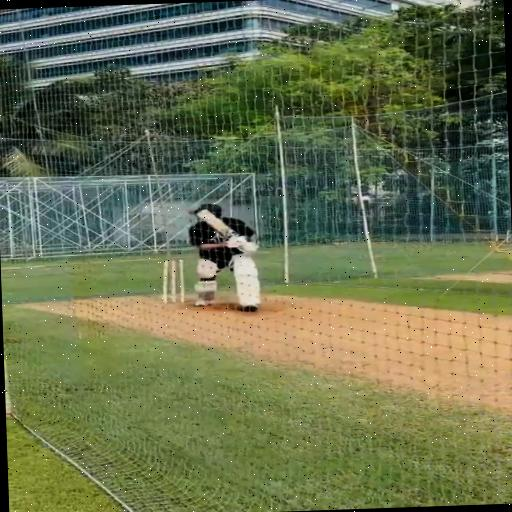Cricket bat: (197, 209, 237, 237)
